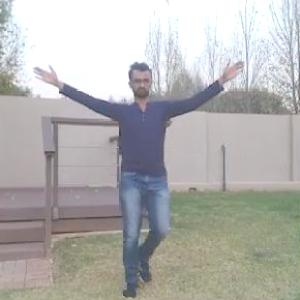takeoff: (32, 61, 241, 297)
